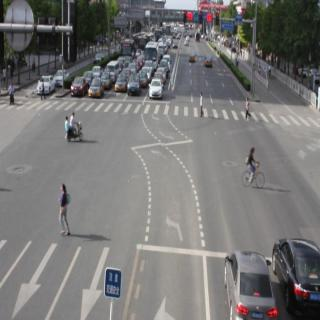Car: (218, 238, 279, 320), (272, 223, 320, 320), (35, 69, 54, 100), (68, 77, 88, 101), (148, 73, 164, 102), (127, 74, 140, 104), (102, 63, 114, 95), (114, 69, 126, 99), (78, 67, 95, 88), (89, 76, 102, 99), (155, 68, 166, 86), (189, 52, 199, 66), (205, 51, 213, 68)
